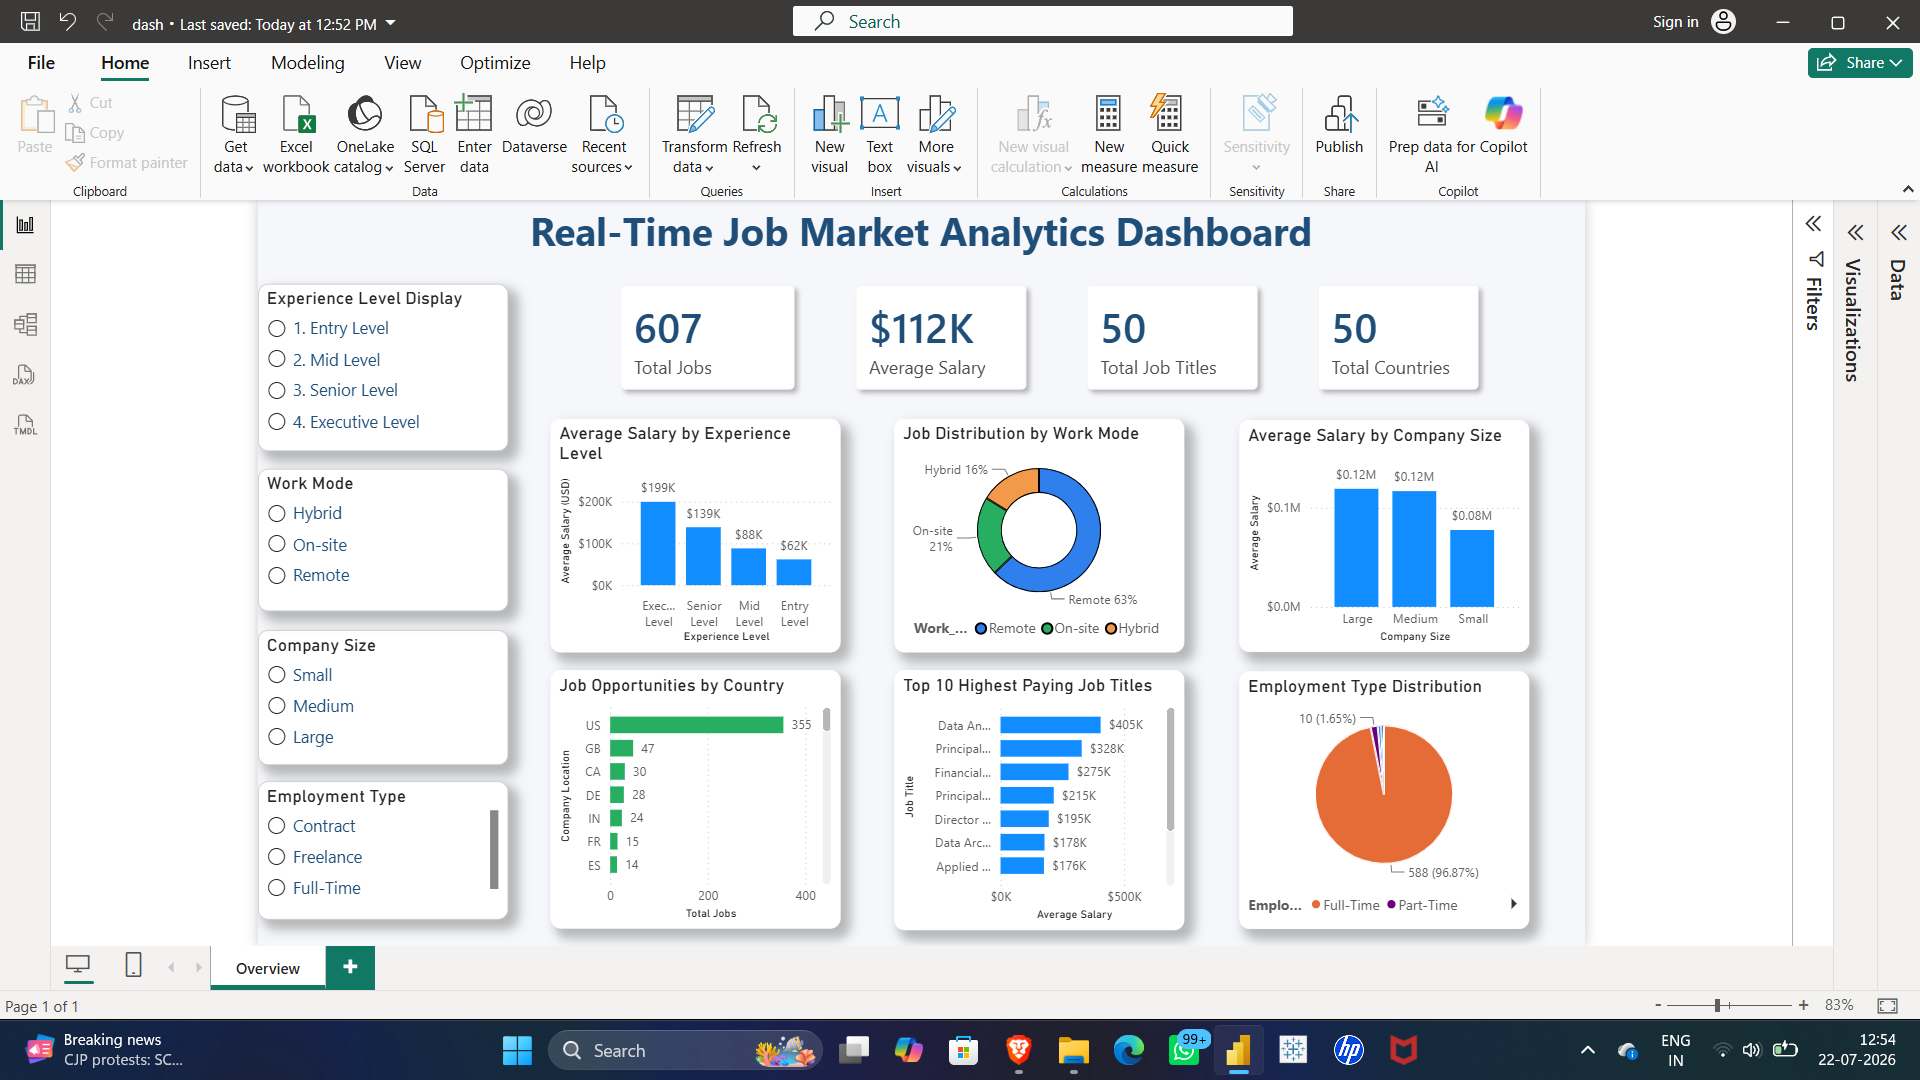

The page's visual inventory and layout, read from the dashboard file:
{"tool":"powerbi","page":{"name":"Overview","canvas":[1280,720],"ordinal":0},"visuals":[{"type":"cardVisual","fields":{"Data":["job_market_cleaned.Total Jobs"]},"box":[320.9,53.1,226.8,159.3],"z":0},{"type":"cardVisual","fields":{"Data":["job_market_cleaned.Total Countries"]},"box":[994.1,53.1,213.5,159.3],"z":1000},{"type":"cardVisual","fields":{"Data":["job_market_cleaned.Total Job Titles"]},"box":[770.9,53.1,223.2,159.3],"z":2000},{"type":"cardVisual","fields":{"Data":["job_market_cleaned.Average Salary"]},"box":[547.7,53.1,223.2,159.3],"z":3000},{"type":"clusteredColumnChart","fields":{"Category":["job_market_cleaned.Experience Level"],"Y":["job_market_cleaned.Average Salary"]},"box":[282.3,211.1,279.9,225.6],"z":4000},{"type":"donutChart","title":"Job Distribution by Work Mode","fields":{"Category":["job_market_cleaned.Work_Mode"],"Y":["job_market_cleaned.Total Jobs"]},"box":[614.1,211.1,279.9,225.6],"z":5000},{"type":"clusteredBarChart","title":"Top 10 Highest Paying Job Titles","fields":{"Y":["job_market_cleaned.Average Salary"],"Category":["job_market_cleaned.job_title"]},"box":[614.1,453.6,279.9,250.9],"z":6000},{"type":"clusteredColumnChart","fields":{"Category":["job_market_cleaned.Company Size"],"Y":["job_market_cleaned.Average Salary"]},"box":[947.1,212.3,279.9,224.4],"z":7000},{"type":"clusteredBarChart","title":"Job Opportunities by Country","fields":{"Y":["job_market_cleaned.Total Jobs"],"Category":["job_market_cleaned.company_location"]},"box":[282.3,453.6,279.9,249.7],"z":8000},{"type":"listSlicer","fields":{"Values":["job_market_cleaned.Experience Level Display"]},"box":[0,80.8,241.3,161.7],"z":9000},{"type":"listSlicer","fields":{"Values":["job_market_cleaned.Company Size"]},"box":[0,415,241.3,130.3],"z":10000},{"type":"listSlicer","title":"Work Mode","fields":{"Values":["job_market_cleaned.Work_Mode"]},"box":[0,259.4,241.3,137.5],"z":11000},{"type":"listSlicer","fields":{"Values":["job_market_cleaned.Employment Type"]},"box":[0,561,241.3,133.9],"z":12000},{"type":"textbox","box":[0,0,1280,106.2],"z":13000},{"type":"pieChart","title":"Employment Type Distribution","fields":{"Category":["job_market_cleaned.Employment Type"],"Y":["job_market_cleaned.Total Jobs"]},"box":[947.1,454.8,279.9,248.5],"z":13001}]}

Visuals, with their boxes on the page's 1280x720 design canvas (x1, y1, x2, y2). These are canvas units, not pixel positions in the 1920x1080 screenshot, which may show the page scaled, cropped or inside an application window:
cardVisual - job_market_cleaned.Total Jobs: [321, 53, 548, 212]
cardVisual - job_market_cleaned.Total Countries: [994, 53, 1208, 212]
cardVisual - job_market_cleaned.Total Job Titles: [771, 53, 994, 212]
cardVisual - job_market_cleaned.Average Salary: [548, 53, 771, 212]
clusteredColumnChart - job_market_cleaned.Experience Level x job_market_cleaned.Average Salary: [282, 211, 562, 437]
"Job Distribution by Work Mode" donutChart: [614, 211, 894, 437]
"Top 10 Highest Paying Job Titles" clusteredBarChart: [614, 454, 894, 704]
clusteredColumnChart - job_market_cleaned.Company Size x job_market_cleaned.Average Salary: [947, 212, 1227, 437]
"Job Opportunities by Country" clusteredBarChart: [282, 454, 562, 703]
listSlicer - job_market_cleaned.Experience Level Display: [0, 81, 241, 242]
listSlicer - job_market_cleaned.Company Size: [0, 415, 241, 545]
"Work Mode" listSlicer: [0, 259, 241, 397]
listSlicer - job_market_cleaned.Employment Type: [0, 561, 241, 695]
textbox: [0, 0, 1280, 106]
"Employment Type Distribution" pieChart: [947, 455, 1227, 703]
